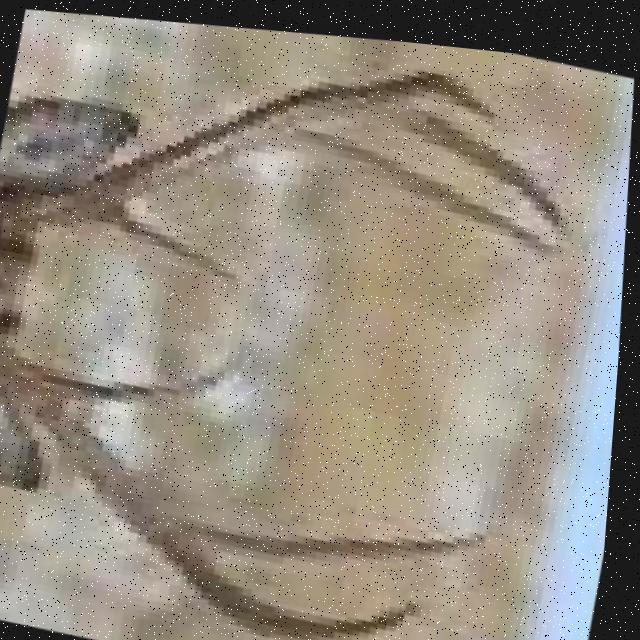L-F: (0, 319, 435, 638)
L-G1: (52, 358, 238, 400)
L-G2: (179, 510, 499, 557)
R-F: (8, 58, 501, 235)
R-G1: (98, 202, 254, 278)
R-G2: (266, 117, 575, 250)
R-G3: (359, 97, 580, 224)
